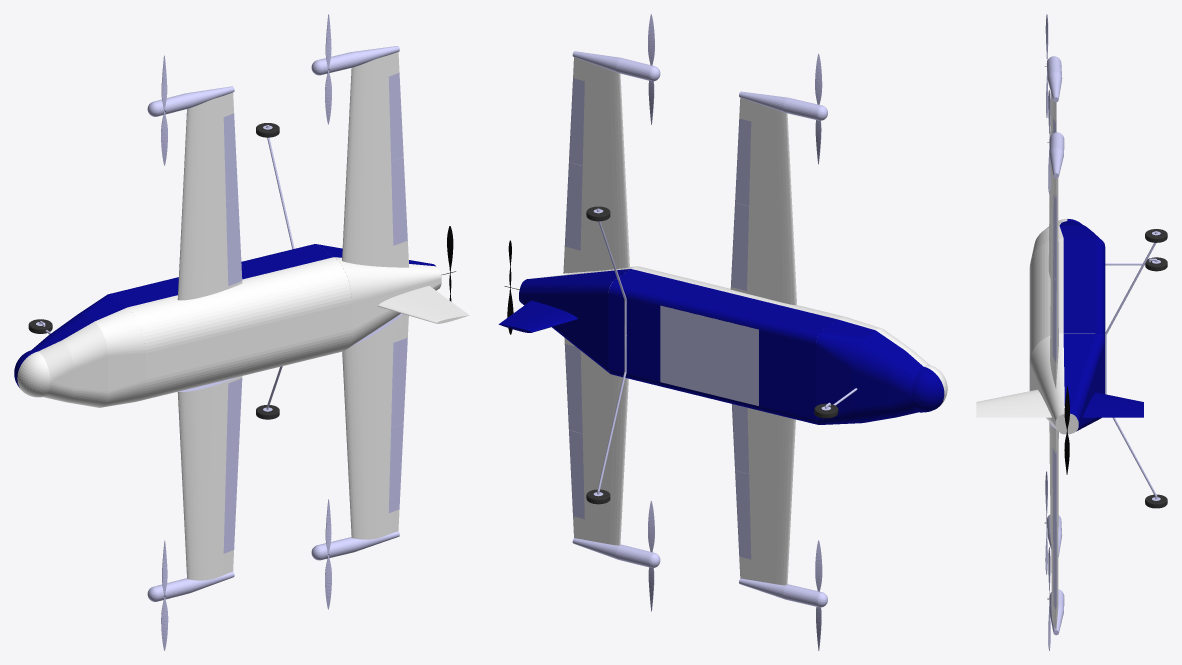
Rendered from Libis_cerrado.obj.
3 views of the same model, side by side, from view 1: azimuth 30°, elevation 25°; view 2: azimuth 150°, elevation 25°; view 3: azimuth 270°, elevation 25° (orthographic). The views are drawn at different scales.
Visible parts, largest first — view 1: Object.249, Object.396, Object.343, Object.326, Object.273, Object.260, Object.261, Object.252, Object.130, Object.1065, Object.160, Object.162 (+15 smaller); view 2: Object.397, Object.327, Object.274, Object.344, Object.234, Object.235, Object.1052, Object.1058, Object.252, Object.136, Object.240, Object.199 (+18 smaller); view 3: Object.252, Object.249, Object.130, Object.1065, Object.137, Object.1070, Object.138, Object.240, Object.396, Object.343, Object.136, Object.326 (+8 smaller).
Part boxes in pixels (x1,y1,x2,y2): Object.249: (128,257,351,353); Object.396: (342,52,409,267); Object.343: (342,314,408,539); Object.326: (178,92,242,300); Object.273: (178,376,242,580); Object.260: (145,303,351,379); Object.261: (138,330,351,401); Object.252: (111,244,333,307); Object.130: (334,257,441,302); Object.1065: (378,286,469,323); Object.160: (94,307,145,355); Object.162: (62,321,107,368); Object.397: (563,57,629,273); Object.327: (730,97,796,305); Object.274: (739,407,795,585); Object.344: (564,337,628,545); Object.234: (759,330,815,418); Object.235: (608,294,660,380); Object.1052: (660,305,758,367); Object.1058: (660,344,758,405); Object.252: (614,269,837,331); Object.136: (519,293,608,367); Object.240: (608,281,820,344); Object.199: (816,345,853,418); Object.252: (1063,238,1095,332); Object.249: (1029,238,1063,359); Object.130: (1029,333,1064,421); Object.1065: (976,389,1051,417); Object.137: (1063,333,1095,411); Object.1070: (1082,392,1143,417); Object.138: (1070,333,1104,421); Object.240: (1095,238,1105,339); Object.396: (1050,170,1056,387); Object.343: (1050,424,1056,629); Object.136: (1078,342,1104,425); Object.326: (1048,92,1055,277).
Size of the model in its own units: 2117 by 2744 by 850.
